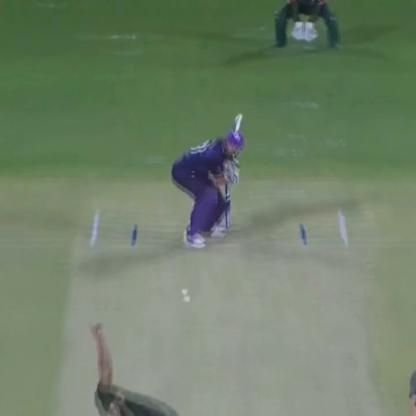ball: (178, 296, 198, 306), (176, 288, 188, 294)
bat: (224, 107, 251, 139)
pitch: (58, 219, 377, 415)
